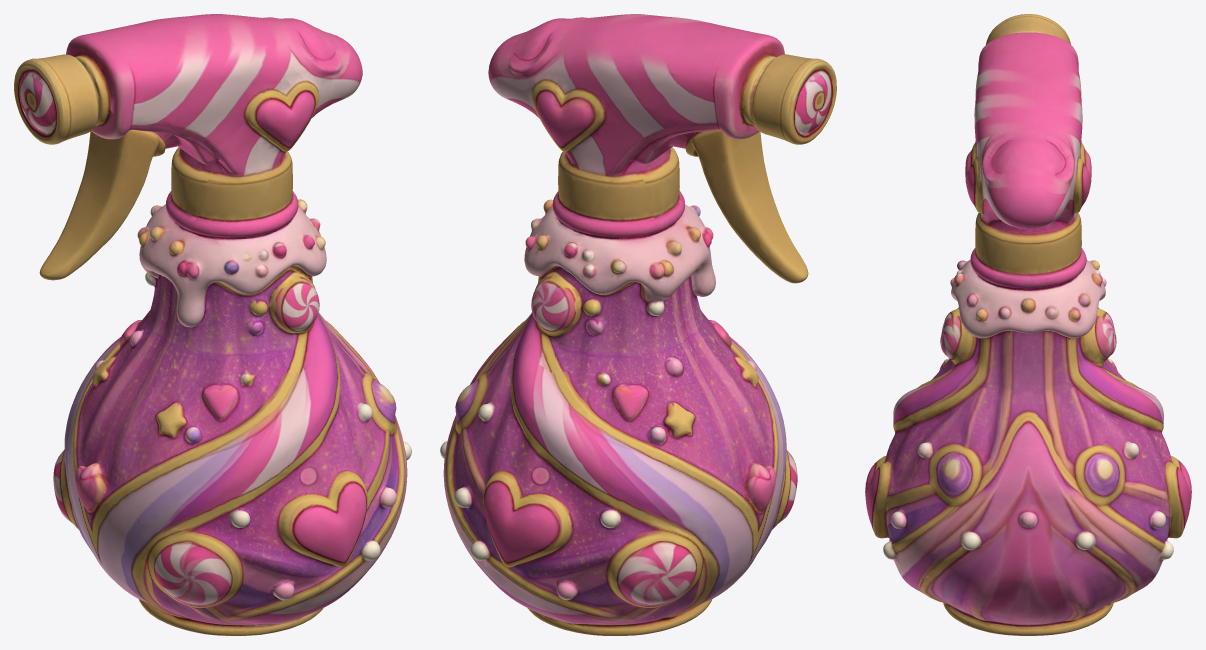
File: Meshy_AI_Candy_Spray.glb
3 renders of one model, left to right at view 1: azimuth 30°, elevation 25°; view 2: azimuth 150°, elevation 25°; view 3: azimuth 270°, elevation 25°, orthographic. The views are drawn at different scales.
Parts seen in each view (by area): view 1: Mesh_0; view 2: Mesh_0; view 3: Mesh_0.
Part boxes in pixels (x1,y1,x2,y2): Mesh_0: (14, 14, 411, 635); Mesh_0: (440, 14, 836, 635); Mesh_0: (865, 14, 1191, 635).
Size of the model in its own units: 1.18 by 1.9 by 1.1.
1 material, 1 textured.
